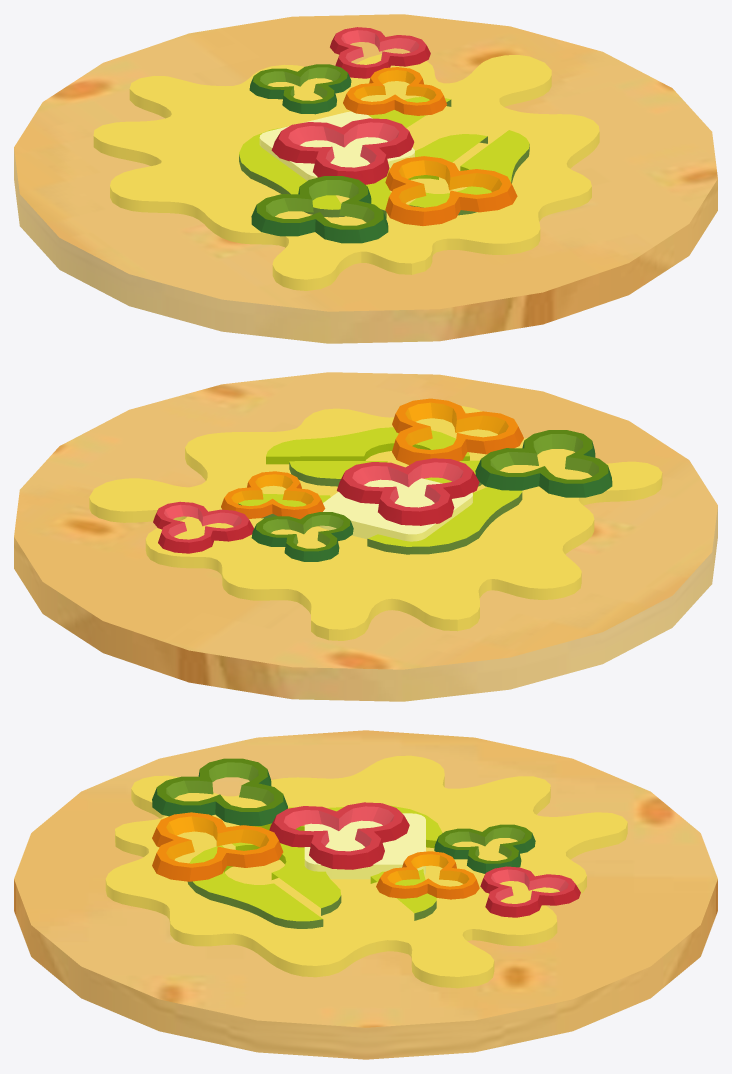
The model's file is taco_Aguacate_Pimiento_Salsa.glb.
The picture shows the model from 3 angles, top to bottom: view 1: azimuth 30°, elevation 25°; view 2: azimuth 150°, elevation 25°; view 3: azimuth 270°, elevation 25°; orthographic projection.
Visible parts, largest first — view 1: tortilla.002, Melted_Butter_Butter_0, Pepper_Slice_Pepper_0, Pepper_Slice_Pepper_0.001, Avocado_Slice_Avocado_0; view 2: tortilla.002, Melted_Butter_Butter_0, Pepper_Slice_Pepper_0, Avocado_Slice_Avocado_0, Pepper_Slice_Pepper_0.001; view 3: tortilla.002, Melted_Butter_Butter_0, Pepper_Slice_Pepper_0, Pepper_Slice_Pepper_0.001, Avocado_Slice_Avocado_0.
Boxes of the visible parts, left/top/right/bottom form: tortilla.002: left=14, top=14, right=717, bottom=343; Melted_Butter_Butter_0: left=93, top=54, right=599, bottom=290; Pepper_Slice_Pepper_0: left=251, top=118, right=517, bottom=243; Pepper_Slice_Pepper_0.001: left=249, top=27, right=447, bottom=115; Avocado_Slice_Avocado_0: left=239, top=97, right=529, bottom=218; tortilla.002: left=14, top=372, right=717, bottom=701; Melted_Butter_Butter_0: left=89, top=406, right=662, bottom=640; Pepper_Slice_Pepper_0: left=337, top=398, right=612, bottom=525; Avocado_Slice_Avocado_0: left=238, top=427, right=522, bottom=554; Pepper_Slice_Pepper_0.001: left=153, top=471, right=353, bottom=561; tortilla.002: left=14, top=730, right=717, bottom=1059; Melted_Butter_Butter_0: left=105, top=755, right=627, bottom=988; Pepper_Slice_Pepper_0: left=152, top=758, right=409, bottom=881; Pepper_Slice_Pepper_0.001: left=376, top=824, right=580, bottom=917; Avocado_Slice_Avocado_0: left=187, top=805, right=442, bottom=928.
Bounding box in the file's own units: 0.2118 × 0.023 × 0.2118.
4 materials, 4 textured.
